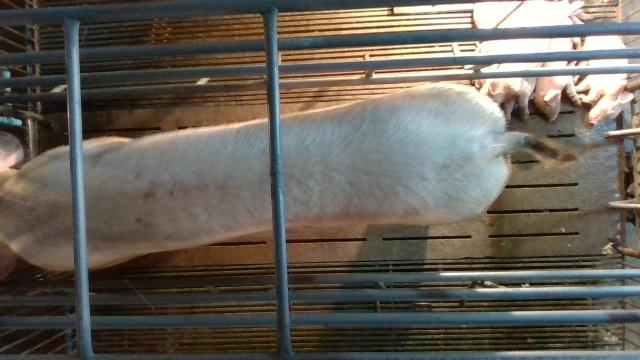piglet: (480, 0, 585, 122), (529, 16, 581, 122), (575, 36, 634, 126)
sow-stand-feed: (2, 83, 580, 282)
